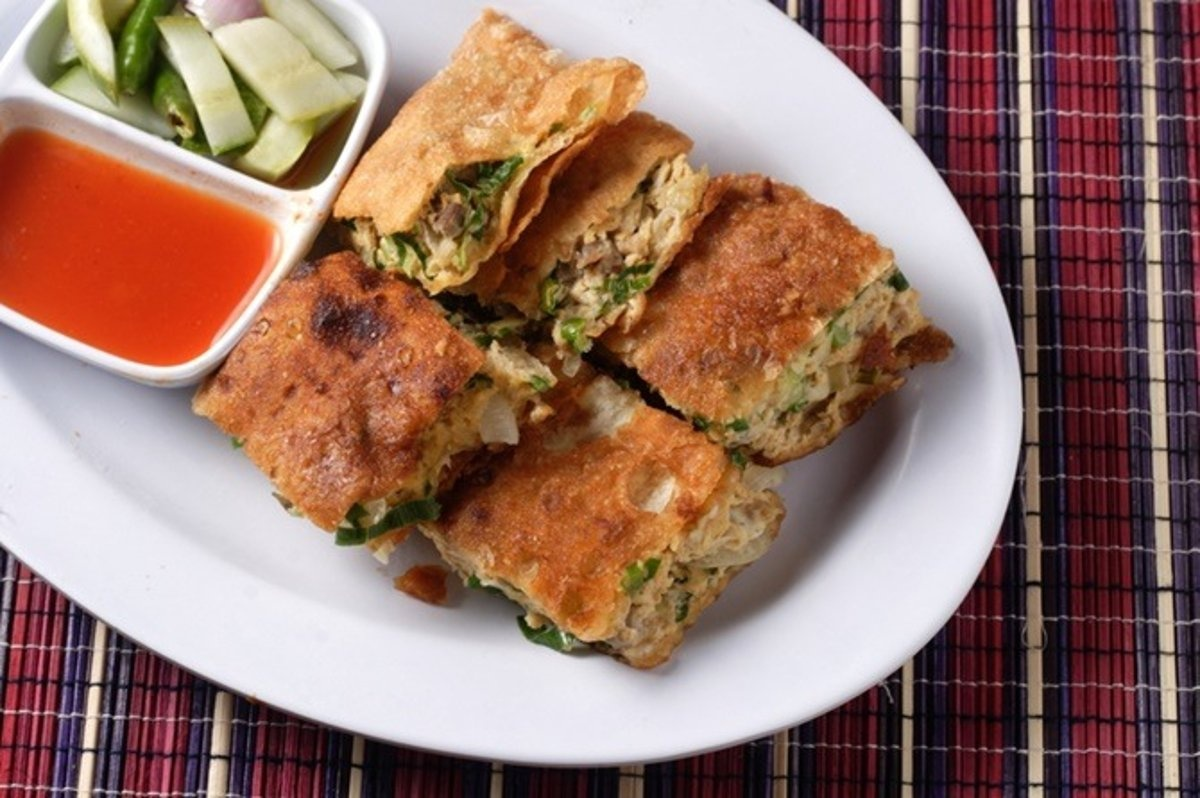martabak: (188, 2, 951, 675)
